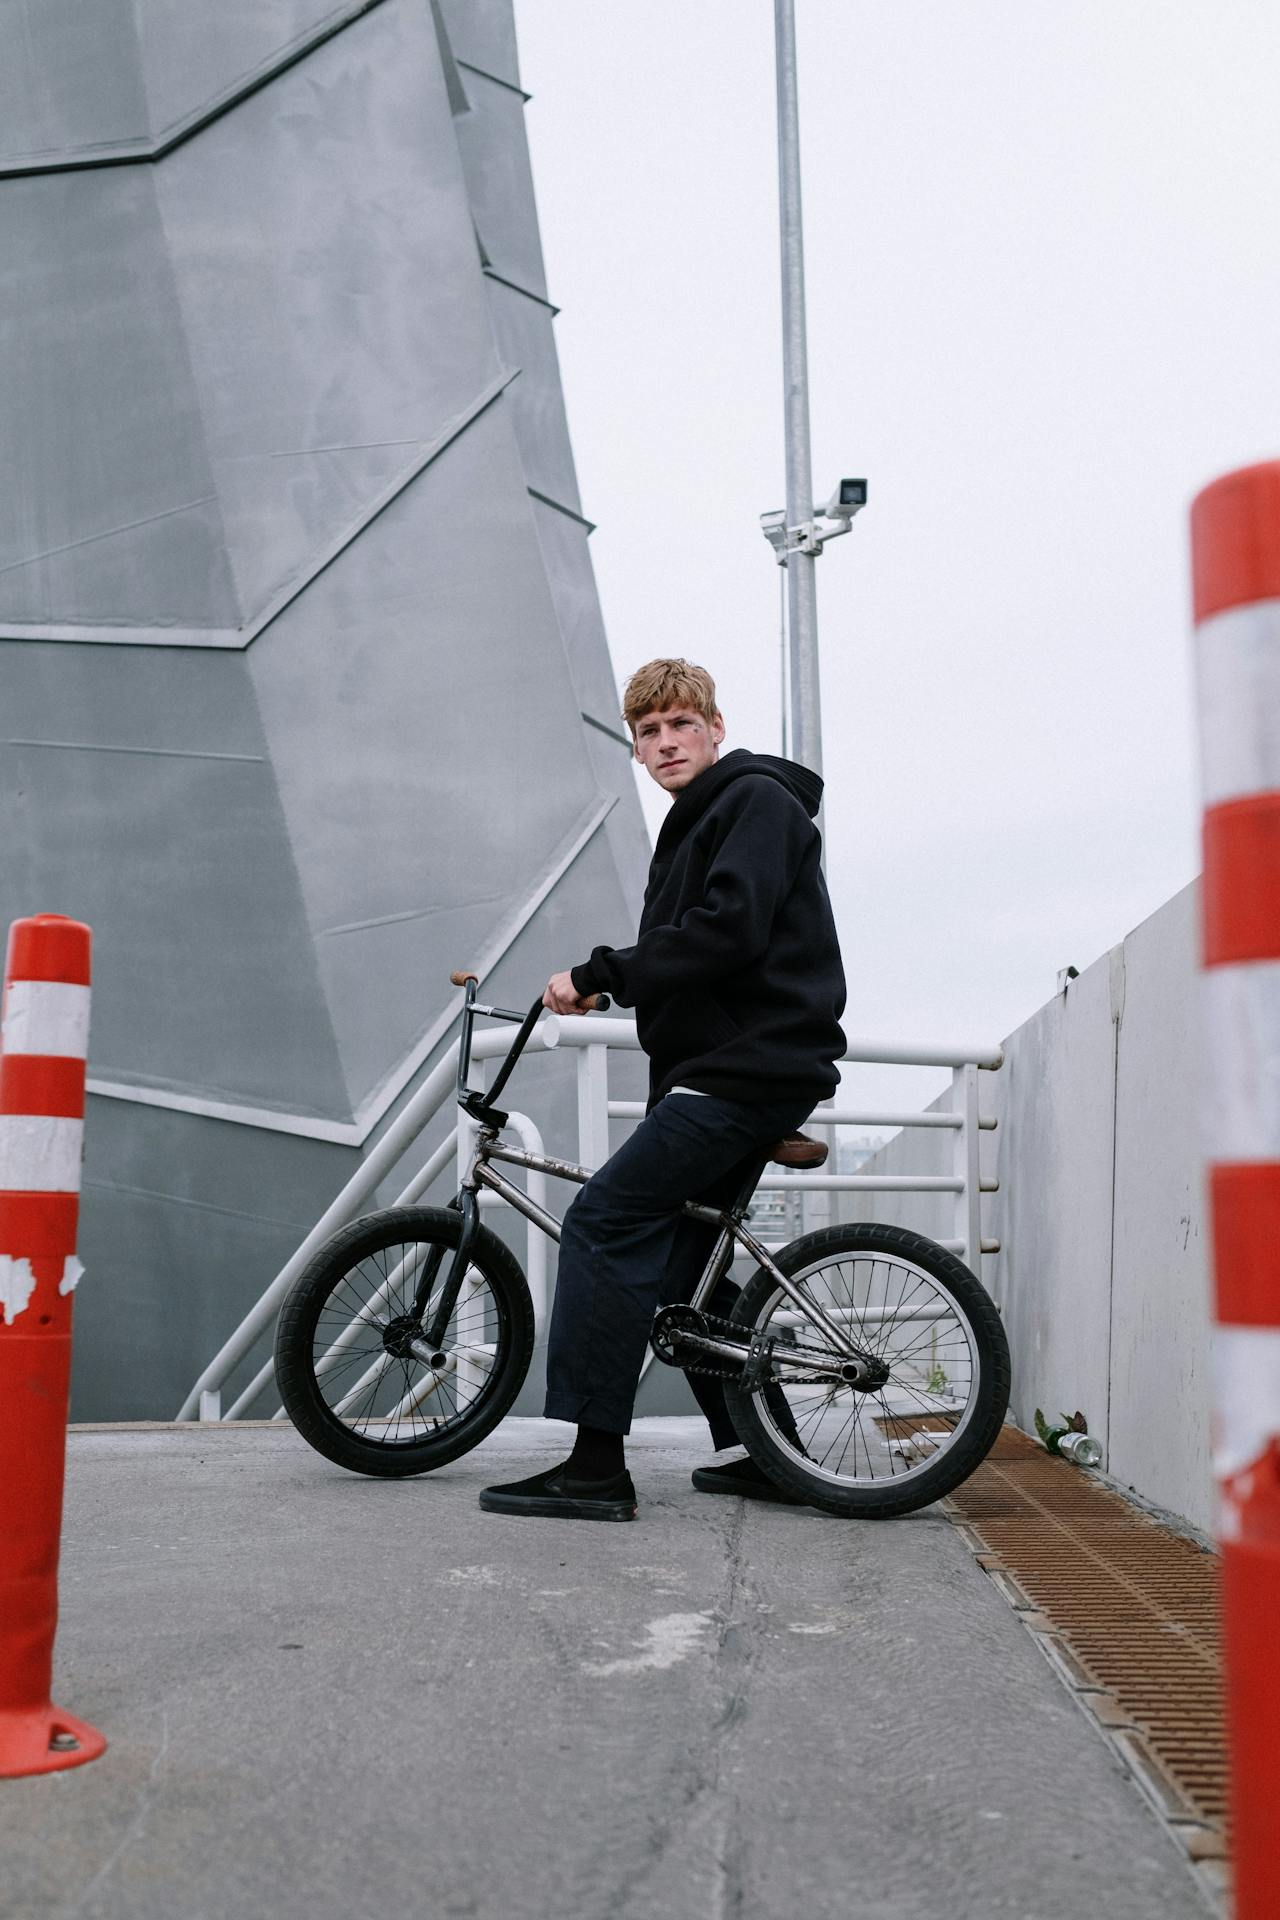bicycle: (243, 930, 1028, 1520)
person: (543, 622, 835, 1503)
